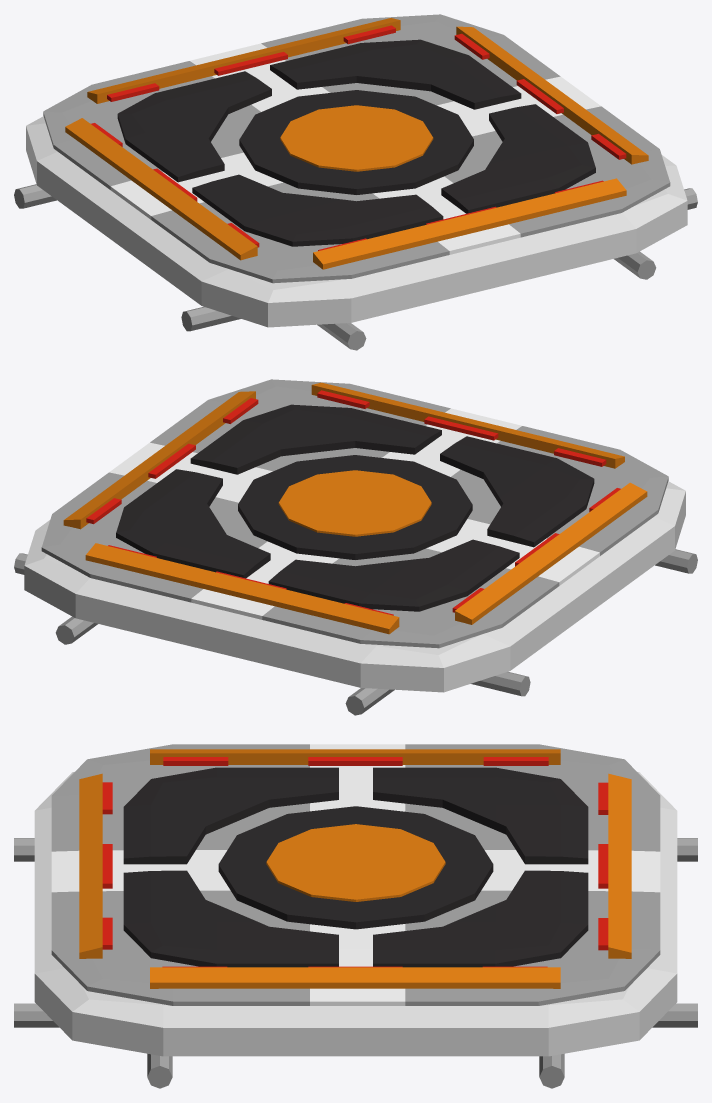
The model's file is platform.fbx.
3 renders of one model, top to bottom at view 1: azimuth 30°, elevation 25°; view 2: azimuth 150°, elevation 25°; view 3: azimuth 270°, elevation 25°, orthographic. The views are drawn at different scales.
Parts seen in each view (by area): view 1: Cylinder; view 2: Cylinder; view 3: Cylinder.
Part boxes in pixels (left/top/right/bottom): Cylinder: left=14, top=14, right=697, bottom=350; Cylinder: left=14, top=379, right=697, bottom=715; Cylinder: left=14, top=744, right=697, bottom=1088.
Bounding box in the file's own units: 561 × 76.21 × 561.
